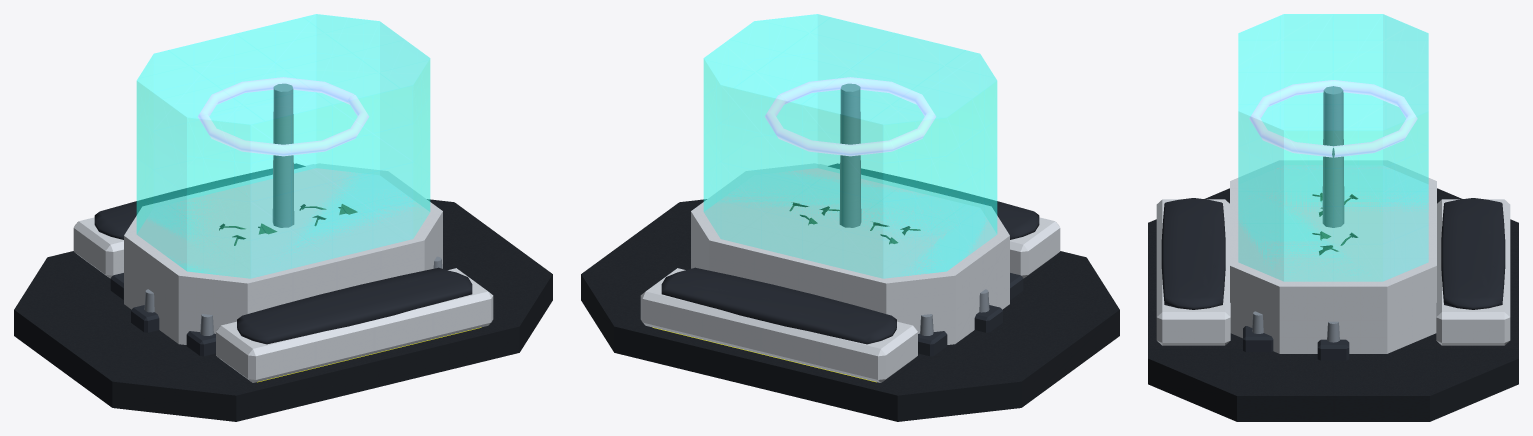
File: prop_04_r1_01.glb
3 renders of one model, left to right at view 1: azimuth 30°, elevation 25°; view 2: azimuth 150°, elevation 25°; view 3: azimuth 270°, elevation 25°, orthographic.
Parts seen in each view (by area): view 1: Prop04_C01_glass_emerald, Prop04_C01_aero_white, Prop04_C01_gunmetal, Prop04_C01_pad_charcoal, Prop04_C01_led_uv, Prop04_C01_steel_machined, Prop04_C01_carbon_slate, Prop04_C01_foliage; view 2: Prop04_C01_glass_emerald, Prop04_C01_aero_white, Prop04_C01_gunmetal, Prop04_C01_pad_charcoal, Prop04_C01_led_uv, Prop04_C01_steel_machined, Prop04_C01_carbon_slate; view 3: Prop04_C01_glass_emerald, Prop04_C01_aero_white, Prop04_C01_gunmetal, Prop04_C01_pad_charcoal, Prop04_C01_led_uv, Prop04_C01_steel_machined, Prop04_C01_carbon_slate, Prop04_C01_foliage.
Part boxes in pixels (<box>): Prop04_C01_glass_emerald: <box>136,14,430,278</box>; Prop04_C01_aero_white: <box>73,163,493,382</box>; Prop04_C01_gunmetal: <box>14,199,552,421</box>; Prop04_C01_pad_charcoal: <box>94,163,472,344</box>; Prop04_C01_led_uv: <box>197,77,369,156</box>; Prop04_C01_steel_machined: <box>144,83,442,335</box>; Prop04_C01_carbon_slate: <box>110,273,215,356</box>; Prop04_C01_foliage: <box>219,204,357,245</box>; Prop04_C01_glass_emerald: <box>703,14,997,278</box>; Prop04_C01_aero_white: <box>640,163,1060,382</box>; Prop04_C01_gunmetal: <box>581,199,1119,421</box>; Prop04_C01_pad_charcoal: <box>661,163,1039,344</box>; Prop04_C01_led_uv: <box>764,77,936,156</box>; Prop04_C01_steel_machined: <box>839,83,989,335</box>; Prop04_C01_carbon_slate: <box>918,273,1023,356</box>; Prop04_C01_glass_emerald: <box>1238,14,1428,281</box>; Prop04_C01_aero_white: <box>1156,160,1510,353</box>; Prop04_C01_gunmetal: <box>1148,188,1518,421</box>; Prop04_C01_pad_charcoal: <box>1161,198,1505,309</box>; Prop04_C01_led_uv: <box>1249,80,1417,157</box>; Prop04_C01_steel_machined: <box>1252,86,1344,342</box>; Prop04_C01_carbon_slate: <box>1243,326,1349,360</box>; Prop04_C01_foliage: <box>1312,192,1358,255</box>.
Bounding box in the file's own units: 3.5 × 1.89 × 2.6.
Materials: 9 (9 with a texture image).
